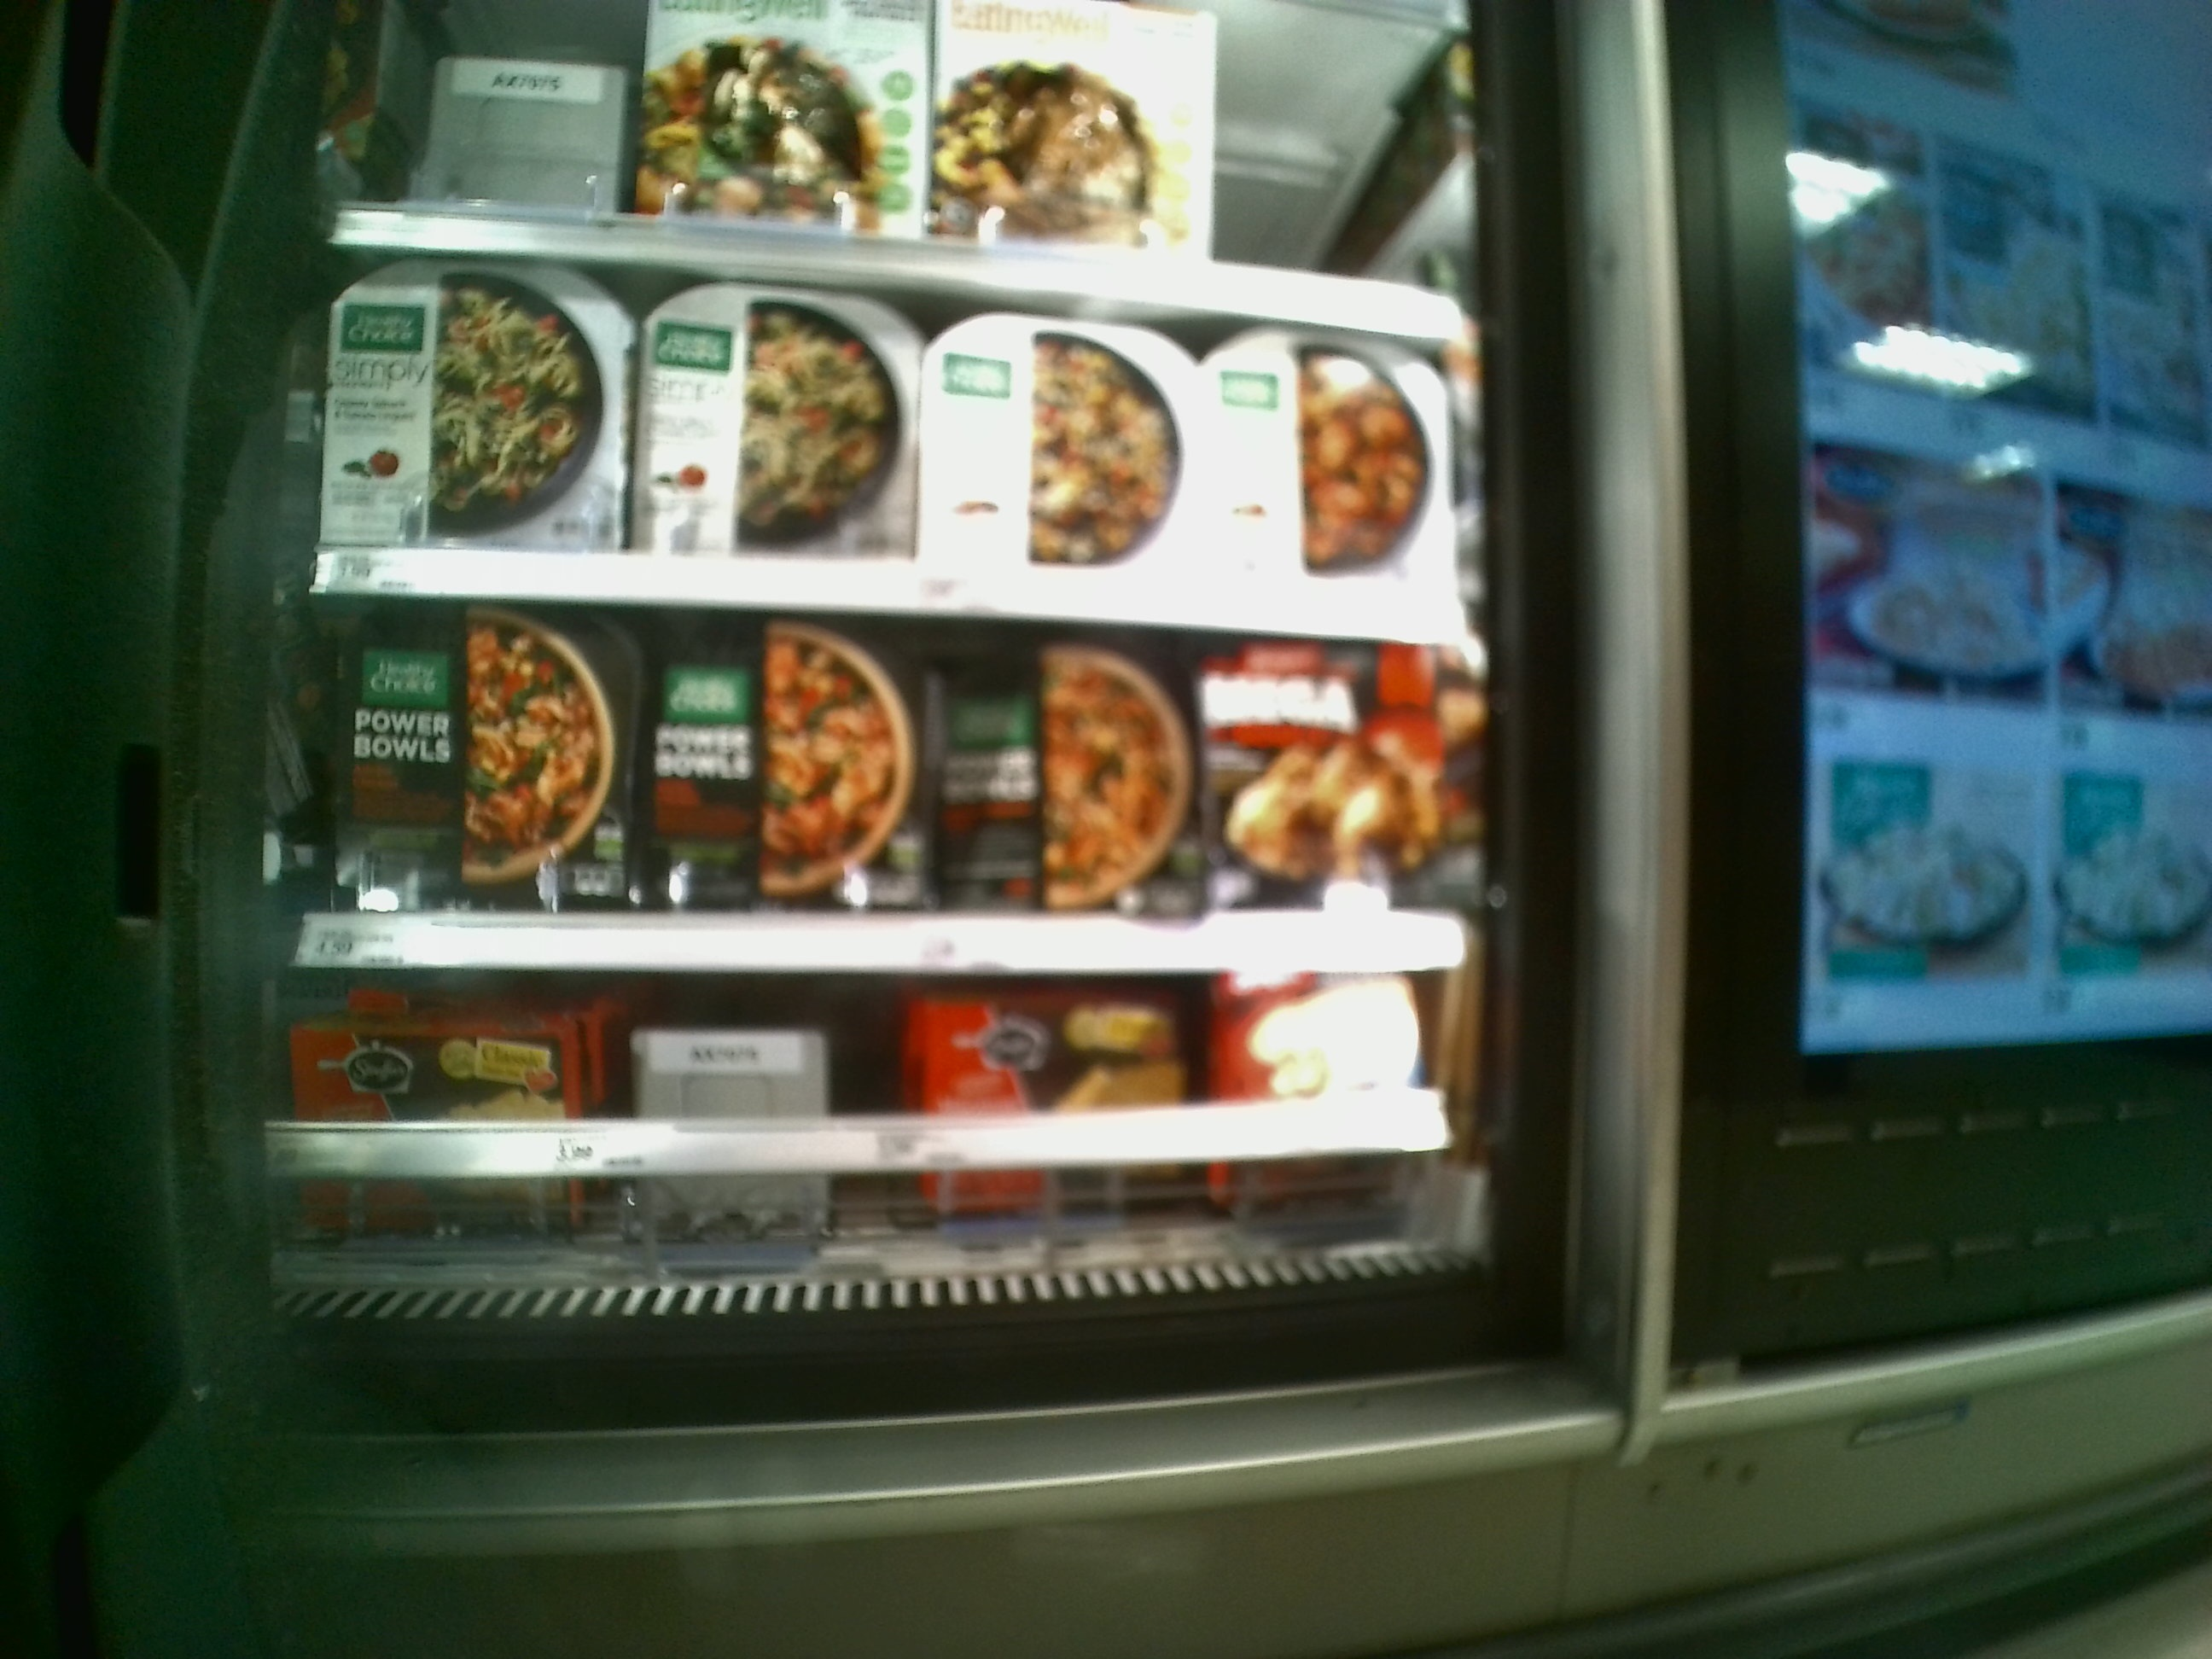shelf: (305, 240, 1489, 647), (300, 584, 1493, 976), (289, 971, 1503, 1255)
